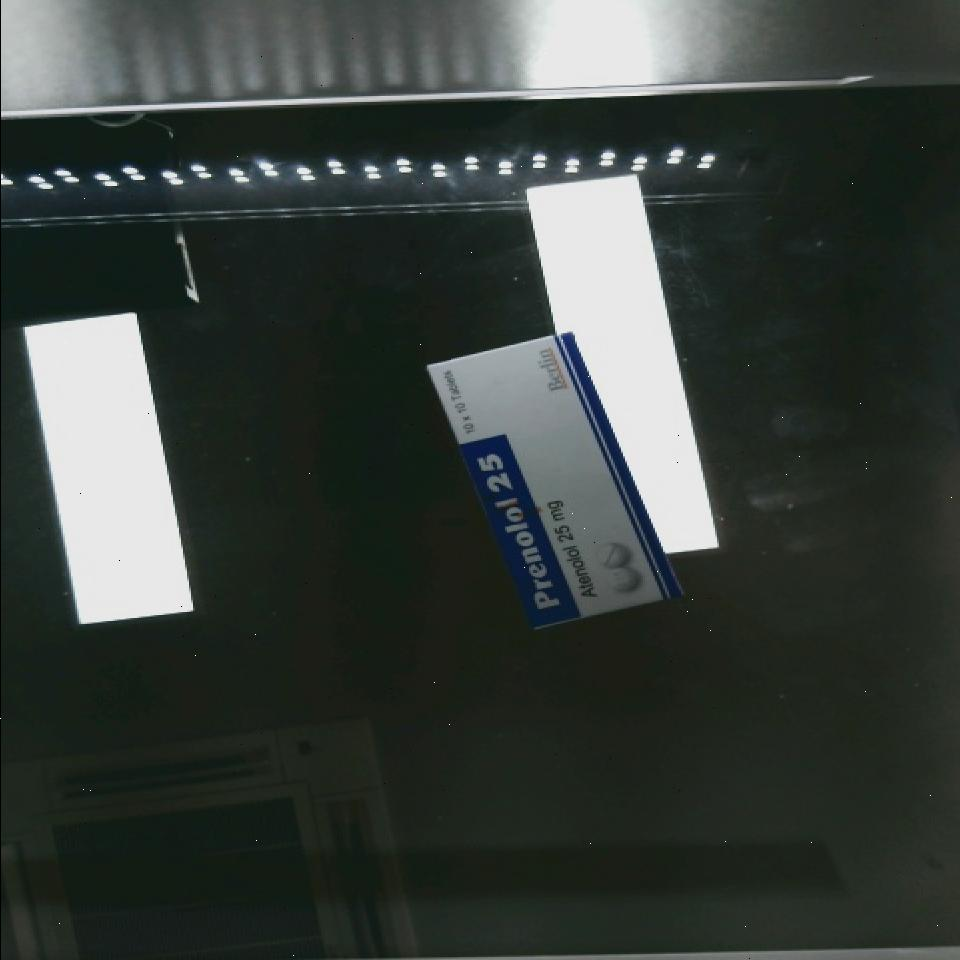medicine_box: (420, 309, 682, 652)
medicine_label_obb: (455, 425, 579, 633)
